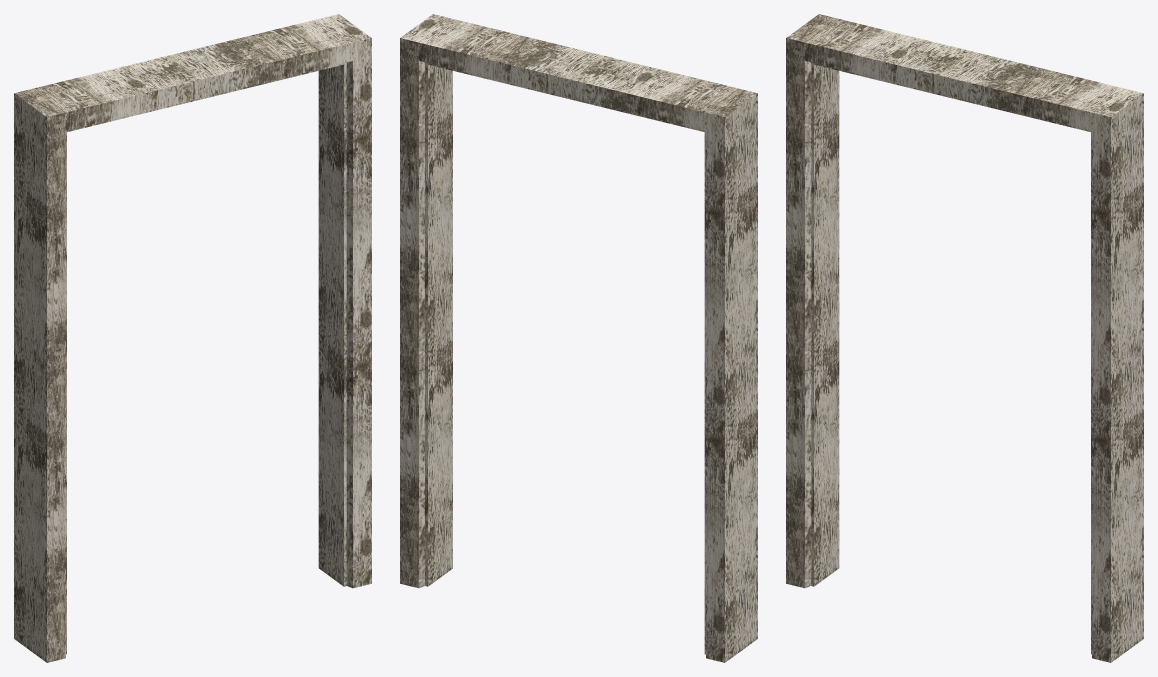
The model's file is doorFrame_01_LOD1.FBX.
The picture shows the model from 3 angles, left to right: view 1: azimuth 30°, elevation 25°; view 2: azimuth 150°, elevation 25°; view 3: azimuth 330°, elevation 25°; orthographic projection.
Parts seen in each view (by area): view 1: doorFrame_01_LOD1; view 2: doorFrame_01_LOD1; view 3: doorFrame_01_LOD1.
Boxes of the visible parts, left/top/right/bottom form: doorFrame_01_LOD1: left=14, top=14, right=371, bottom=662; doorFrame_01_LOD1: left=400, top=14, right=757, bottom=662; doorFrame_01_LOD1: left=786, top=14, right=1143, bottom=662.
Size of the model in its own units: 7.49 by 12.02 by 1.31.
Materials: 1 (1 with a texture image).
